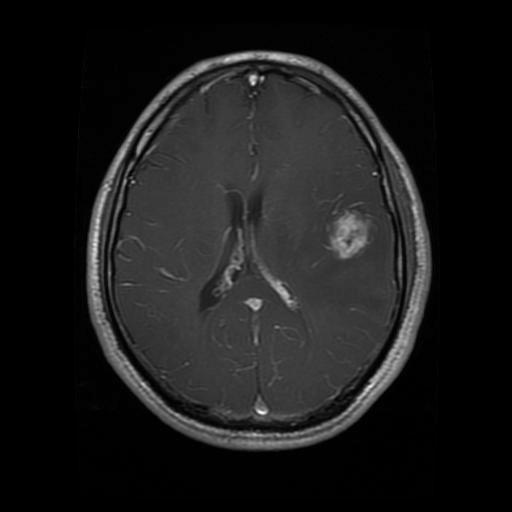Tumour-Glioma: (327, 205, 379, 272)
